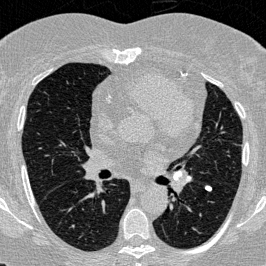nodule: (204, 184, 212, 192)
